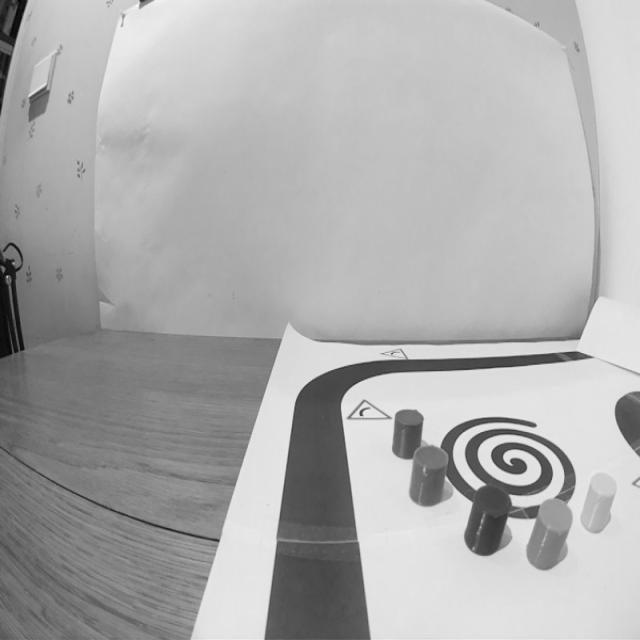cylinder: (525, 491, 575, 576), (462, 479, 514, 557), (407, 439, 450, 512), (577, 467, 617, 539), (390, 402, 428, 464)
laneRightTurn: (284, 354, 377, 468)
lineStraight: (257, 473, 380, 640)
nest: (436, 408, 578, 522)
